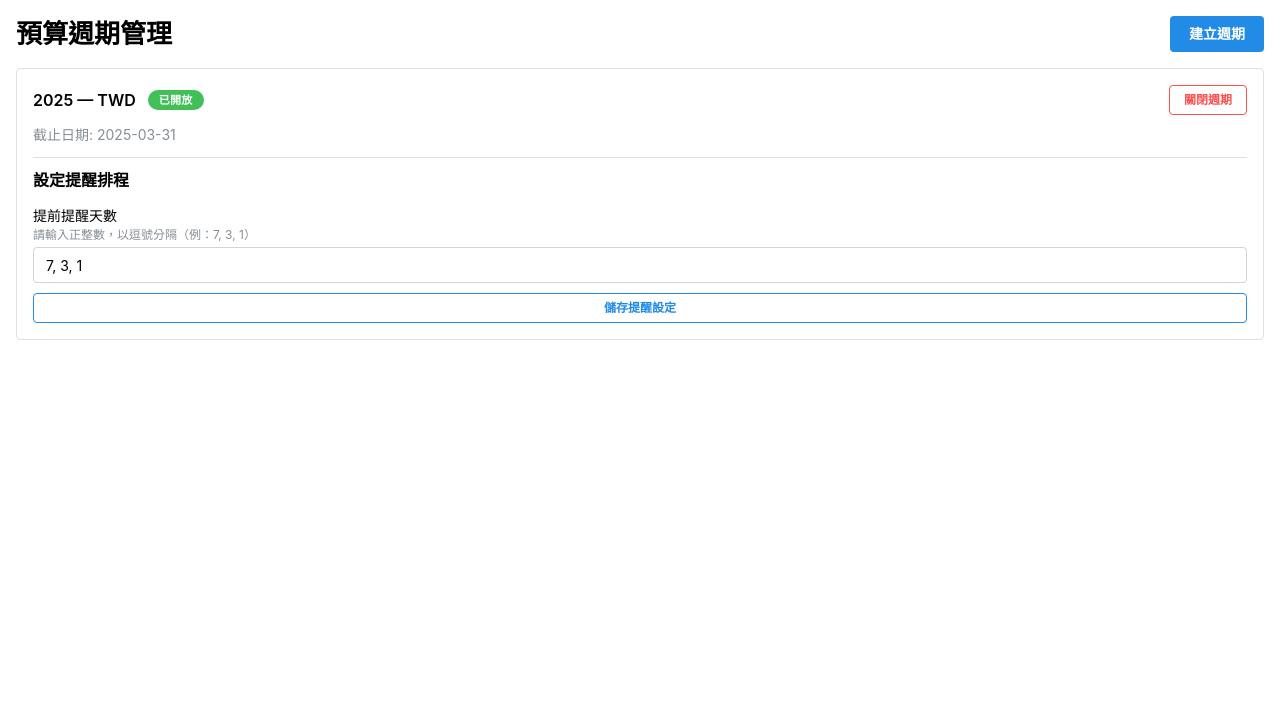
Test: CycleAdminPage › shows close confirmation dialog before closing
Expected: the button "關閉週期" is shown, [1184,92,1232,107]
Step 1. Click the button "關閉週期" → (1208, 100), box [1169,85,1247,115]
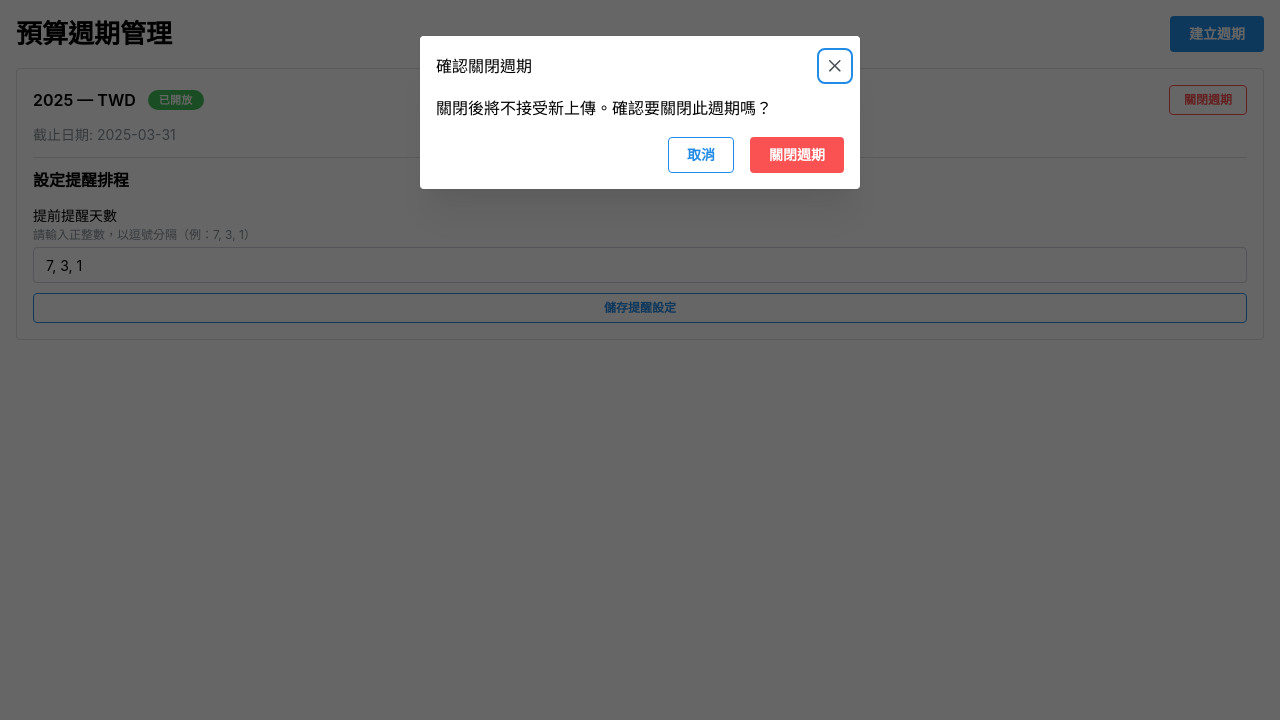
Expected: the text "關閉後將不接受新上傳。確認要關閉此週期嗎？" is shown, [436,98,772,118]
